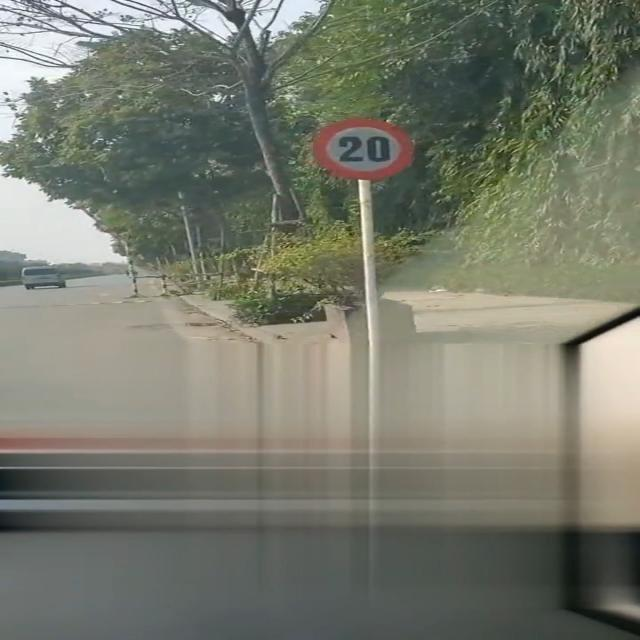127-toc-do-toi-da-20: (310, 120, 412, 180)
